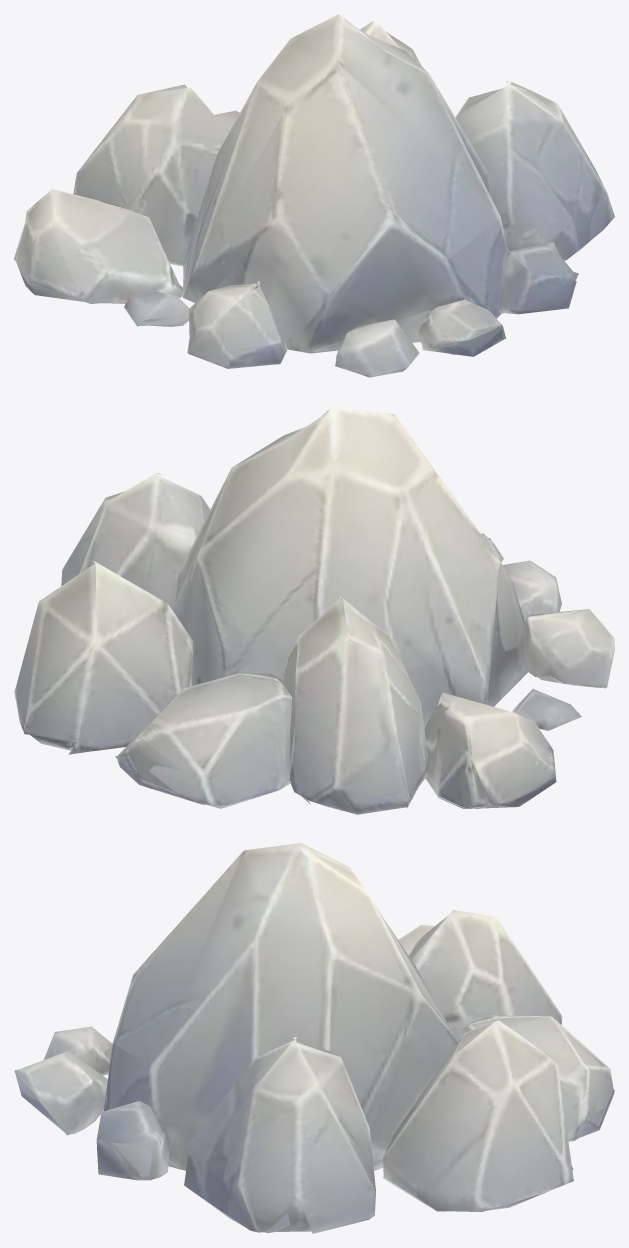
Rendered from pile-a.glb.
3 views of the same model, one above another, from view 1: azimuth 30°, elevation 25°; view 2: azimuth 150°, elevation 25°; view 3: azimuth 270°, elevation 25° (orthographic). The views are drawn at different scales.
Parts seen in each view (by area): view 1: mesh_node; view 2: mesh_node; view 3: mesh_node.
Boxes of the visible parts, x1=… form: mesh_node: x1=14, y1=14, x2=614, y2=377; mesh_node: x1=14, y1=406, x2=614, y2=814; mesh_node: x1=14, y1=843, x2=614, y2=1233.
Bounding box in the file's own units: 1.5 × 0.7658 × 1.46.
Materials: 1 (1 with a texture image).
